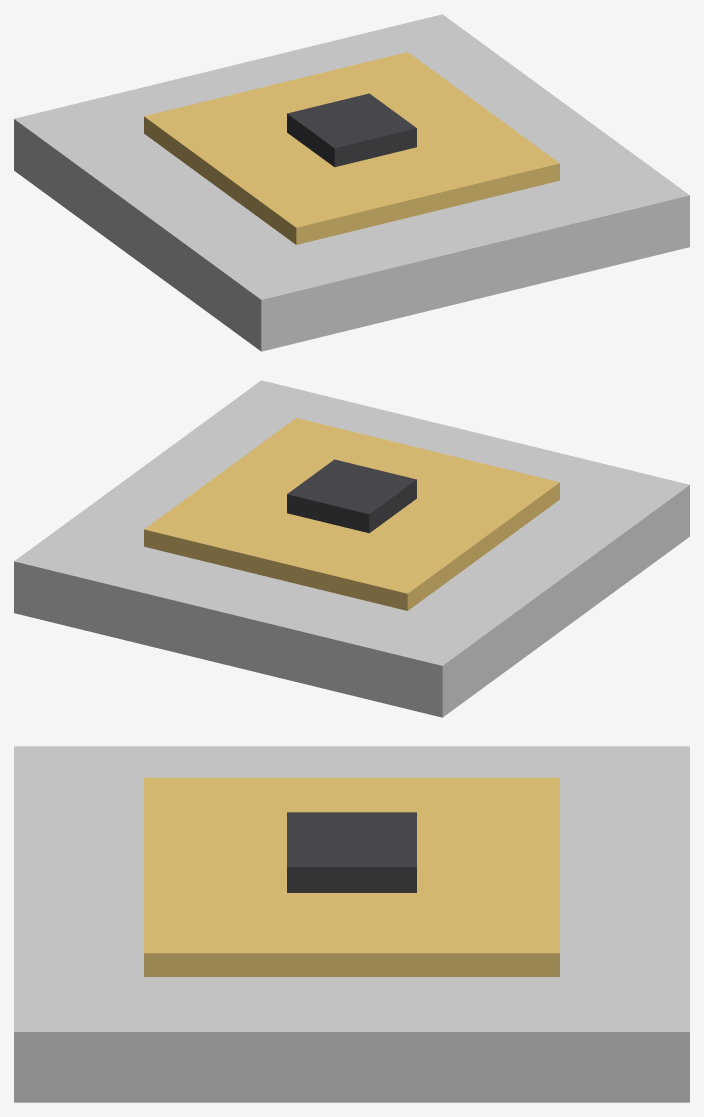
The model's file is com_s.fbx.
The picture shows the model from 3 angles, top to bottom: view 1: azimuth 30°, elevation 25°; view 2: azimuth 150°, elevation 25°; view 3: azimuth 270°, elevation 25°; orthographic projection. The views are drawn at different scales.
Parts seen in each view (by area): view 1: com_s; view 2: com_s; view 3: com_s.
Part boxes in pixels (left/top/right/bottom): com_s: left=14, top=14, right=689, bottom=351; com_s: left=14, top=380, right=689, bottom=717; com_s: left=14, top=746, right=689, bottom=1102.
Bounding box in the file's own units: 0.26 × 0.051 × 0.26.
